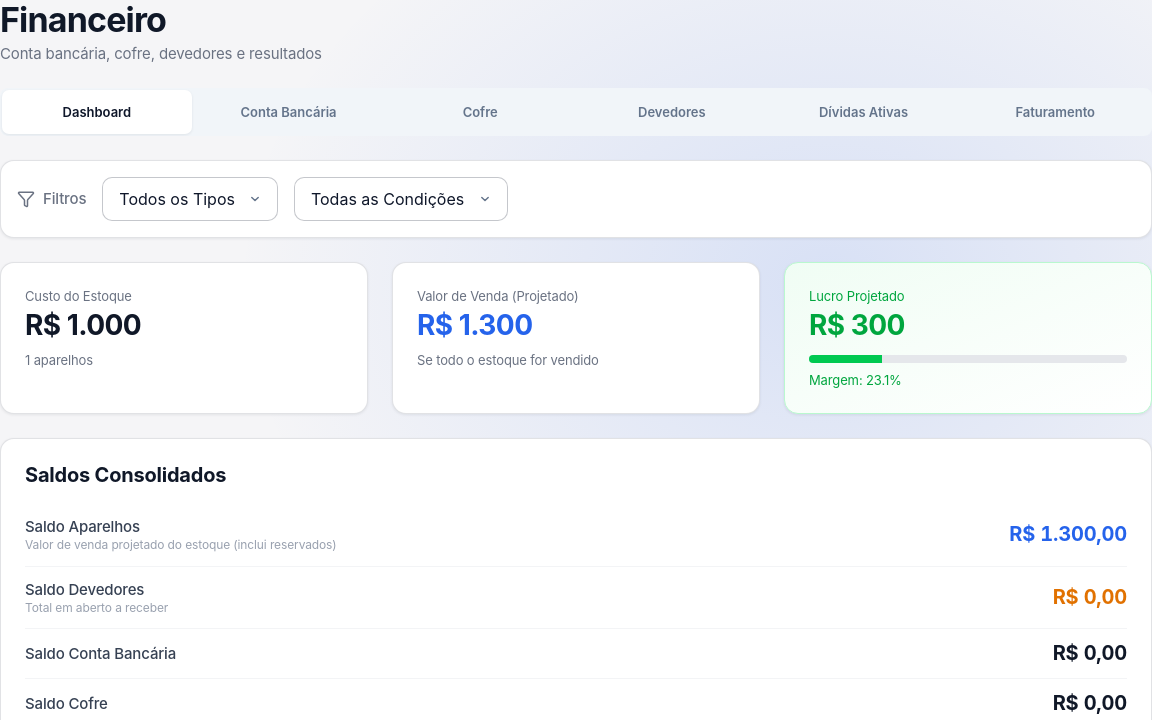
Test: Finance page resilience › names the export button for the active account statement
The width and height of the screenshot is (1152, 720).
Click the button with test id "finance-tab-bank" at (289, 112), box [194,90,383,134]
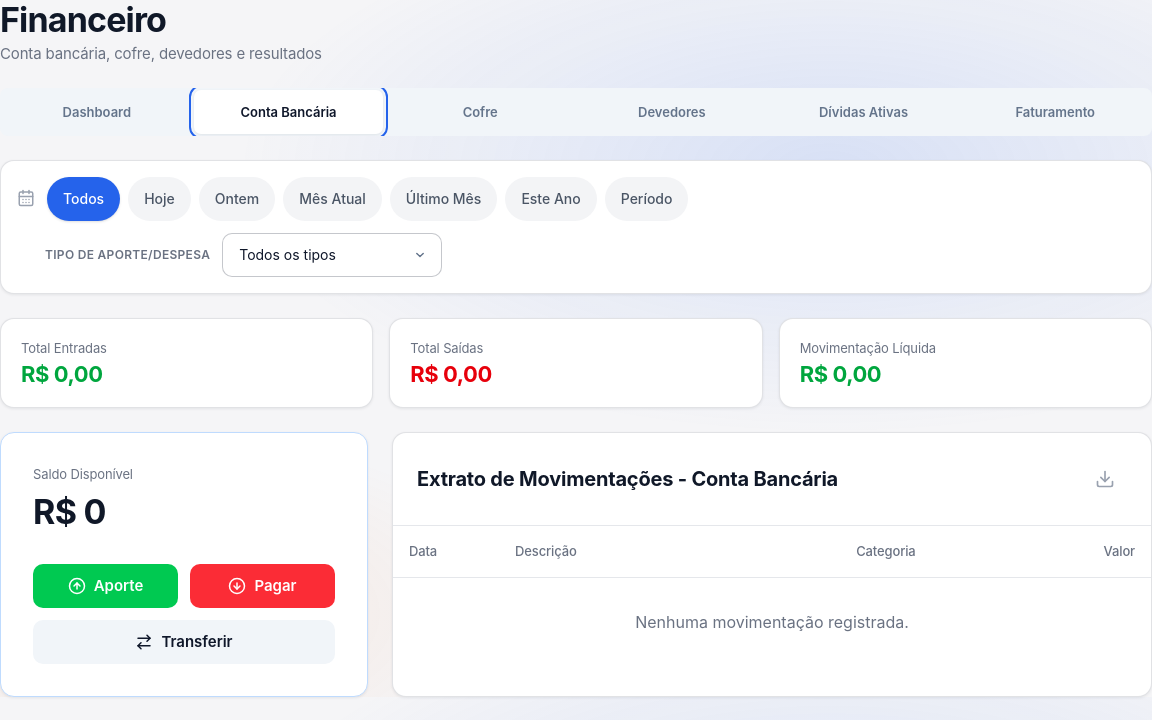
Expected: the button named "exportar extrato de conta bancária" is shown, [1083,457,1127,501]
